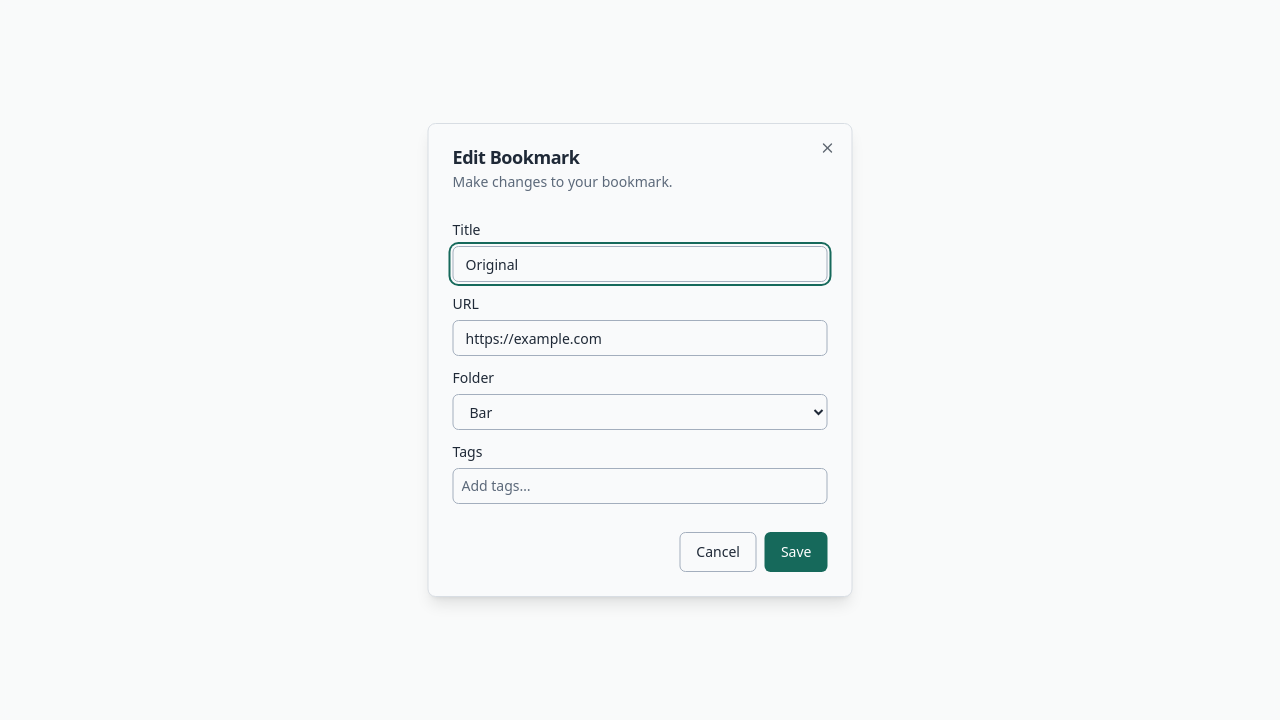
Test case: retains edit inputs on save failure and submits the selected destination
Replace the text in the field labelled "Title" with "Changed" at coordinates (640, 264), box x1=452 y1=246 x2=828 y2=282
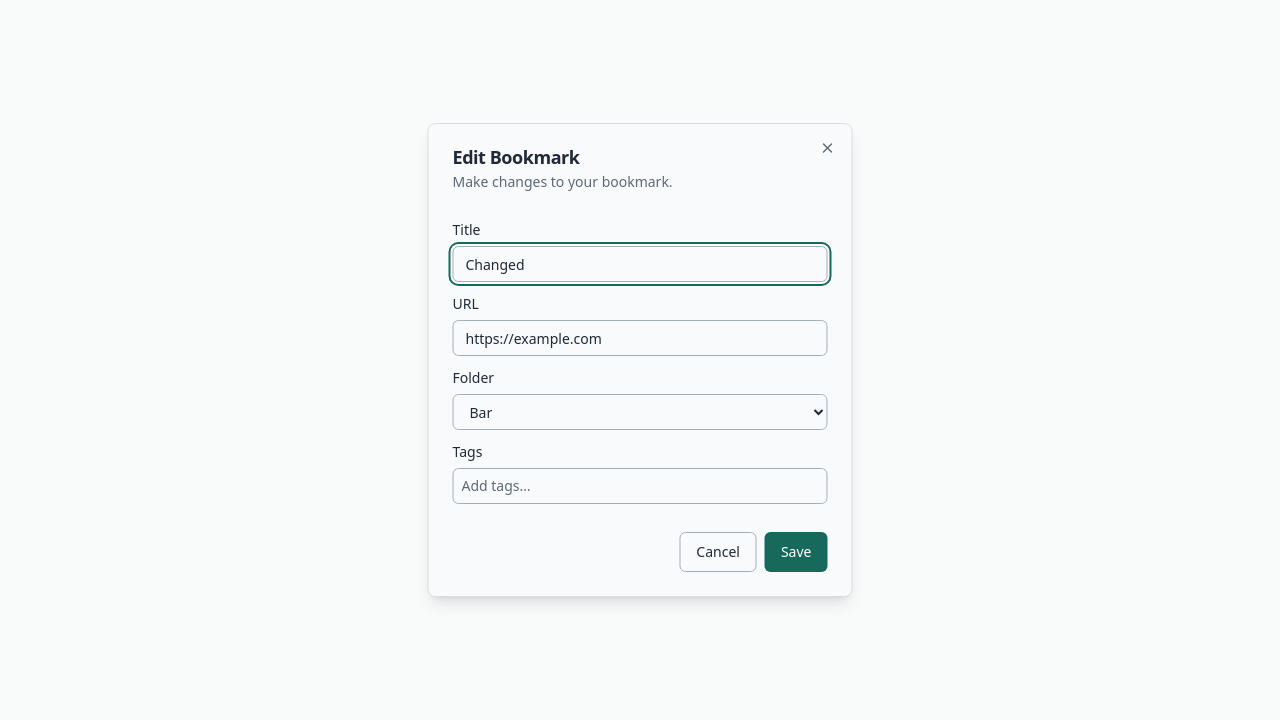
Select "Other" in the dropdown labelled "Folder" at coordinates (640, 412), box x1=452 y1=394 x2=828 y2=430
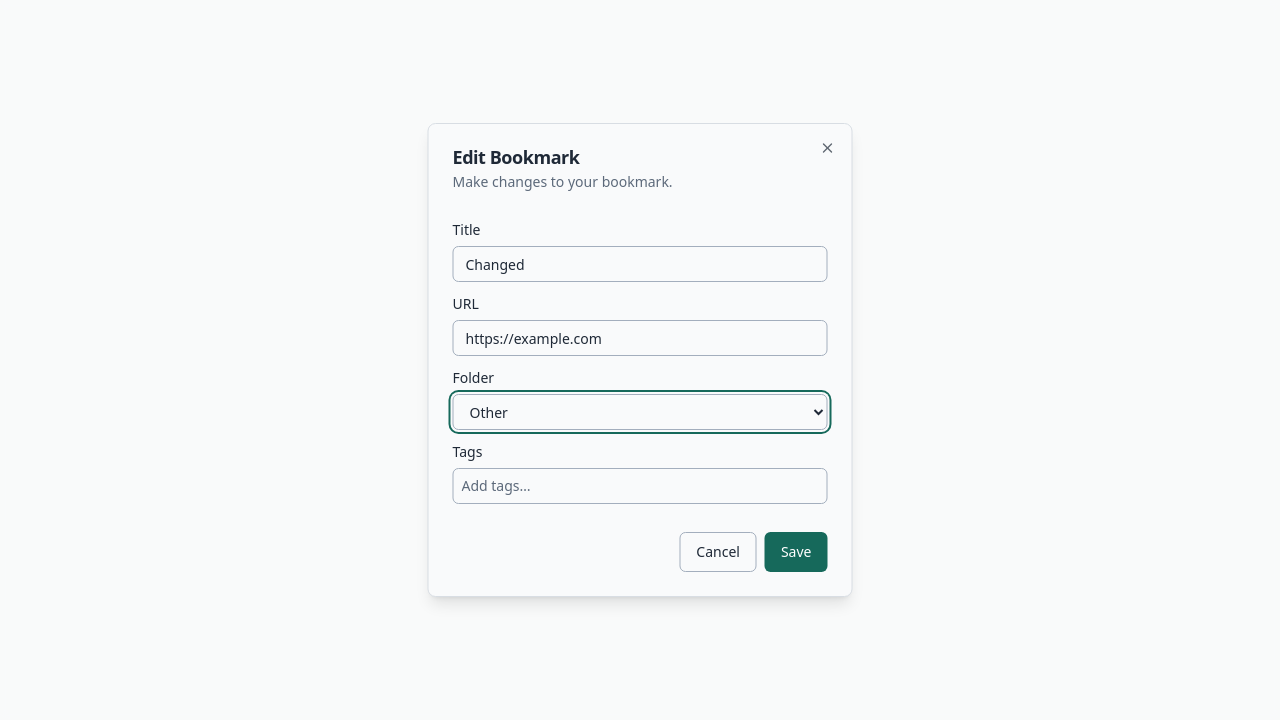
Click the button "Save".
click(796, 552)  # box x1=765 y1=532 x2=828 y2=572
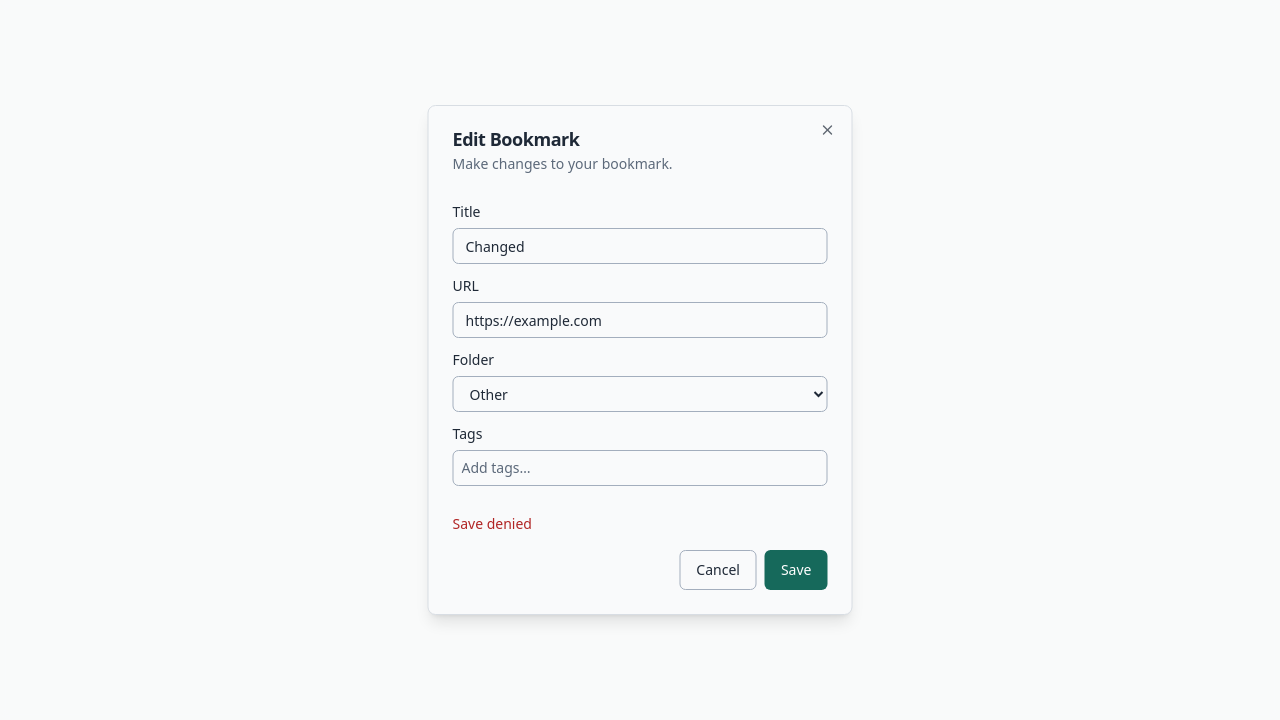
Now the message reads "Save denied", box x1=452 y1=514 x2=532 y2=533
